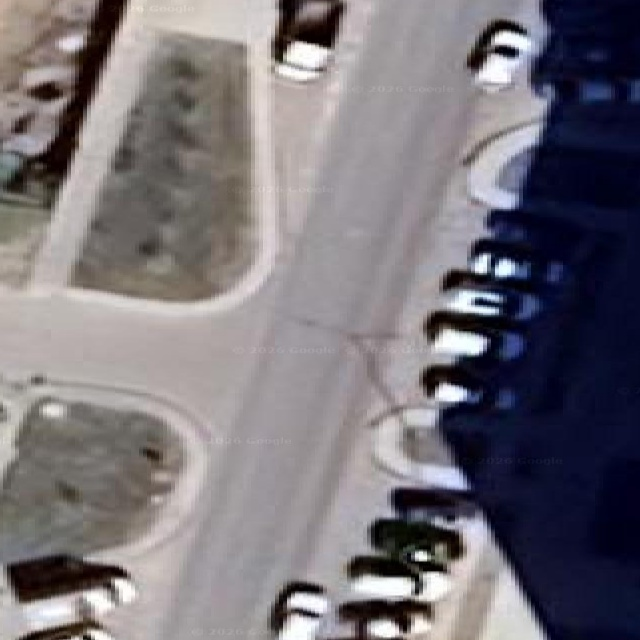car: (6, 555, 136, 615), (468, 229, 565, 290), (272, 0, 343, 81), (424, 311, 524, 360), (467, 20, 531, 91), (420, 363, 516, 410), (368, 518, 463, 562), (338, 599, 432, 639), (443, 285, 541, 320), (270, 582, 329, 639), (346, 555, 421, 598), (389, 486, 478, 521), (421, 365, 489, 407), (337, 599, 408, 639), (18, 621, 113, 639)
